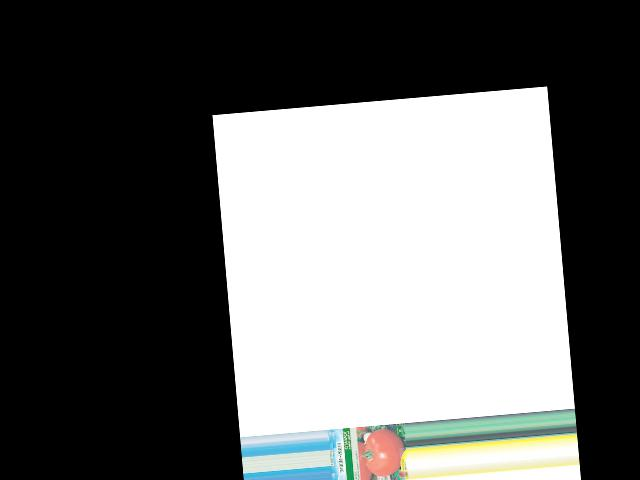tomato: (363, 427, 406, 477)
